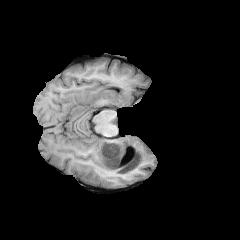glioma: (97, 138, 144, 174)
